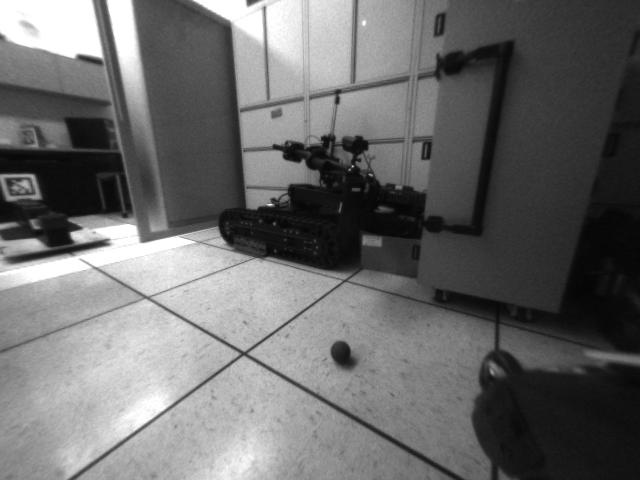dogtoy: (322, 335, 361, 370)
